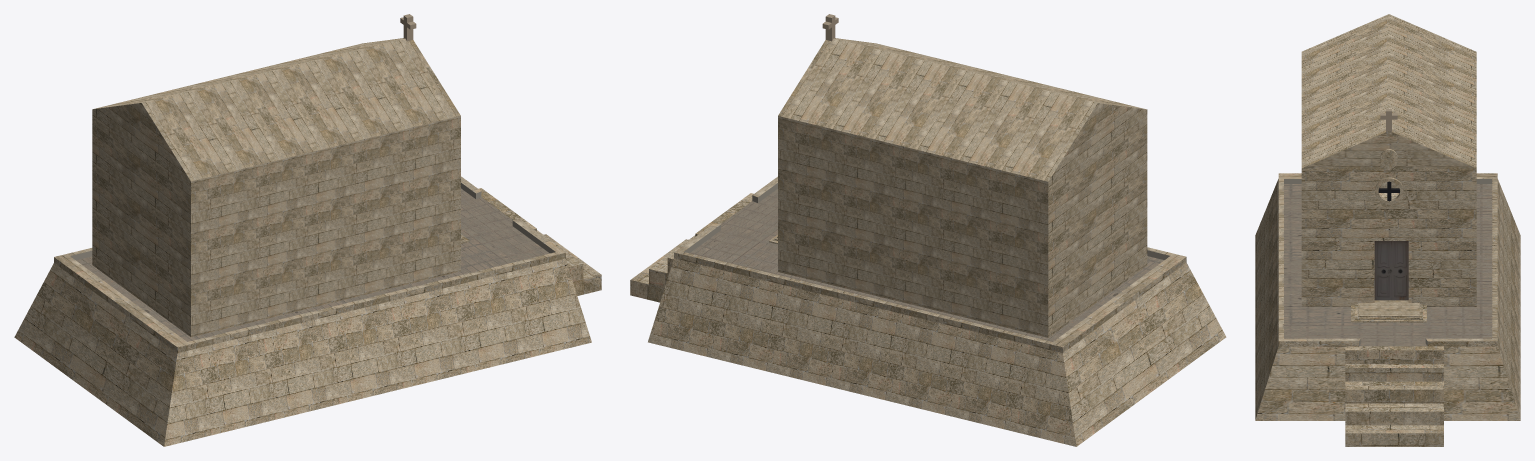
File: Chapel_of_mary_magdalene.glb
The picture shows the model from 3 angles, left to right: view 1: azimuth 30°, elevation 25°; view 2: azimuth 150°, elevation 25°; view 3: azimuth 270°, elevation 25°; orthographic projection. The views are drawn at different scales.
Parts seen in each view (by area): view 1: Chapel, Plane; view 2: Chapel, Plane; view 3: Chapel, Plane, Stairs, Window_Frame, Cylinder.
Part boxes in pixels (x1=…): Chapel: x1=14, y1=38, x2=591, y2=446; Plane: x1=478, y1=188, x2=601, y2=295; Chapel: x1=648, y1=38, x2=1226, y2=446; Plane: x1=630, y1=193, x2=753, y2=302; Chapel: x1=1255, y1=14, x2=1520, y2=420; Plane: x1=1345, y1=346, x2=1443, y2=446; Stairs: x1=1351, y1=300, x2=1426, y2=322; Window_Frame: x1=1375, y1=177, x2=1403, y2=204; Cylinder: x1=1380, y1=149, x2=1397, y2=168.
Size of the model in its own units: 13.21 by 7.7 by 7.02.
Materials: 9 (7 with a texture image).
